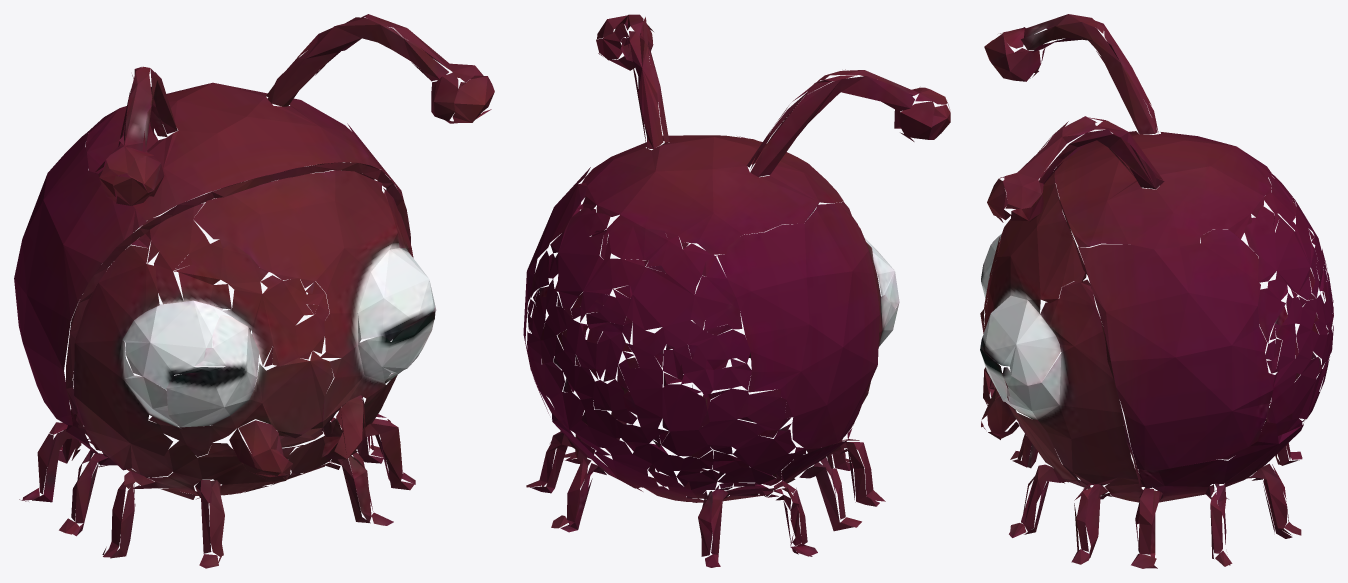
Rendered from toy-ant.glb.
The picture shows the model from 3 angles, left to right: view 1: azimuth 30°, elevation 25°; view 2: azimuth 150°, elevation 25°; view 3: azimuth 270°, elevation 25°; orthographic projection. The views are drawn at different scales.
Visible parts, largest first — view 1: tmpt4abyhx1.ply; view 2: tmpt4abyhx1.ply; view 3: tmpt4abyhx1.ply.
Boxes of the visible parts, left/top/right/bottom form: tmpt4abyhx1.ply: left=14, top=14, right=494, bottom=568; tmpt4abyhx1.ply: left=523, top=14, right=950, bottom=567; tmpt4abyhx1.ply: left=980, top=14, right=1333, bottom=568.
Bounding box in the file's own units: 0.8503 × 1 × 0.7413.
Materials: 1 (1 with a texture image).
